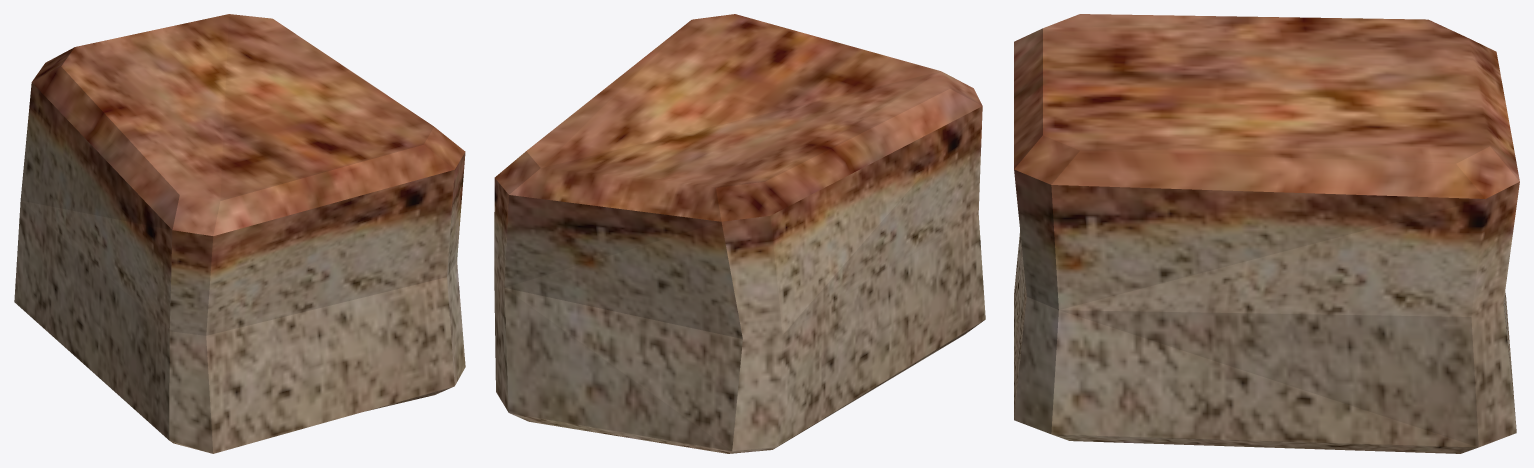
Rendered from KM_ITFO_PIE02.glb.
3 renders of one model, left to right at view 1: azimuth 30°, elevation 25°; view 2: azimuth 150°, elevation 25°; view 3: azimuth 270°, elevation 25°, orthographic. The views are drawn at different scales.
Parts seen in each view (by area): view 1: KM_ITFO_PIE02; view 2: KM_ITFO_PIE02; view 3: KM_ITFO_PIE02.
Part boxes in pixels (x1,y1,x2,y2): KM_ITFO_PIE02: (14, 14, 465, 453); KM_ITFO_PIE02: (494, 14, 985, 453); KM_ITFO_PIE02: (1014, 14, 1519, 453).
Size of the model in its own units: 0.1506 by 0.1253 by 0.1879.
1 material, 1 textured.
